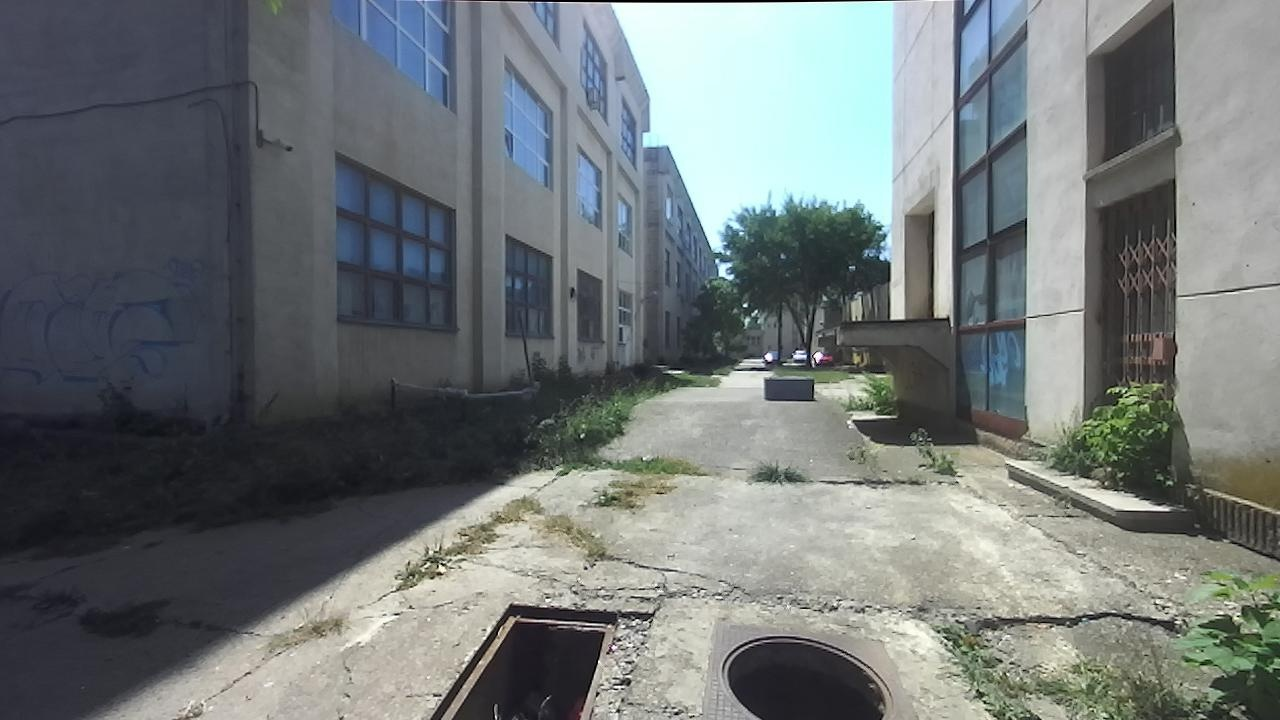drain: (427, 600, 621, 720), (710, 634, 897, 720)
